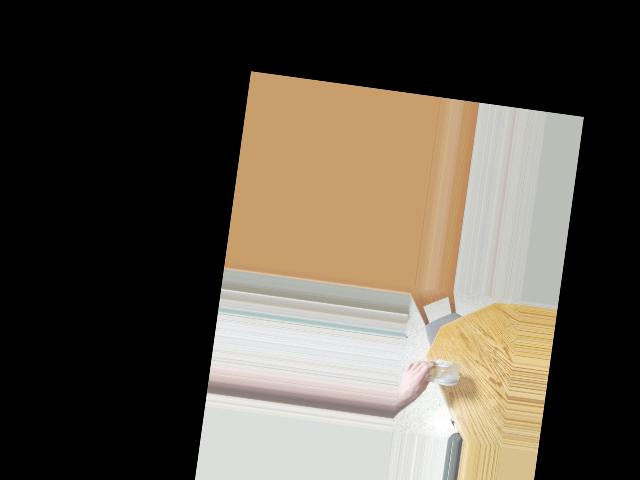cheese: (415, 350, 466, 396)
